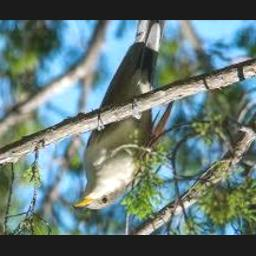Cuckoo: (72, 20, 176, 210)
